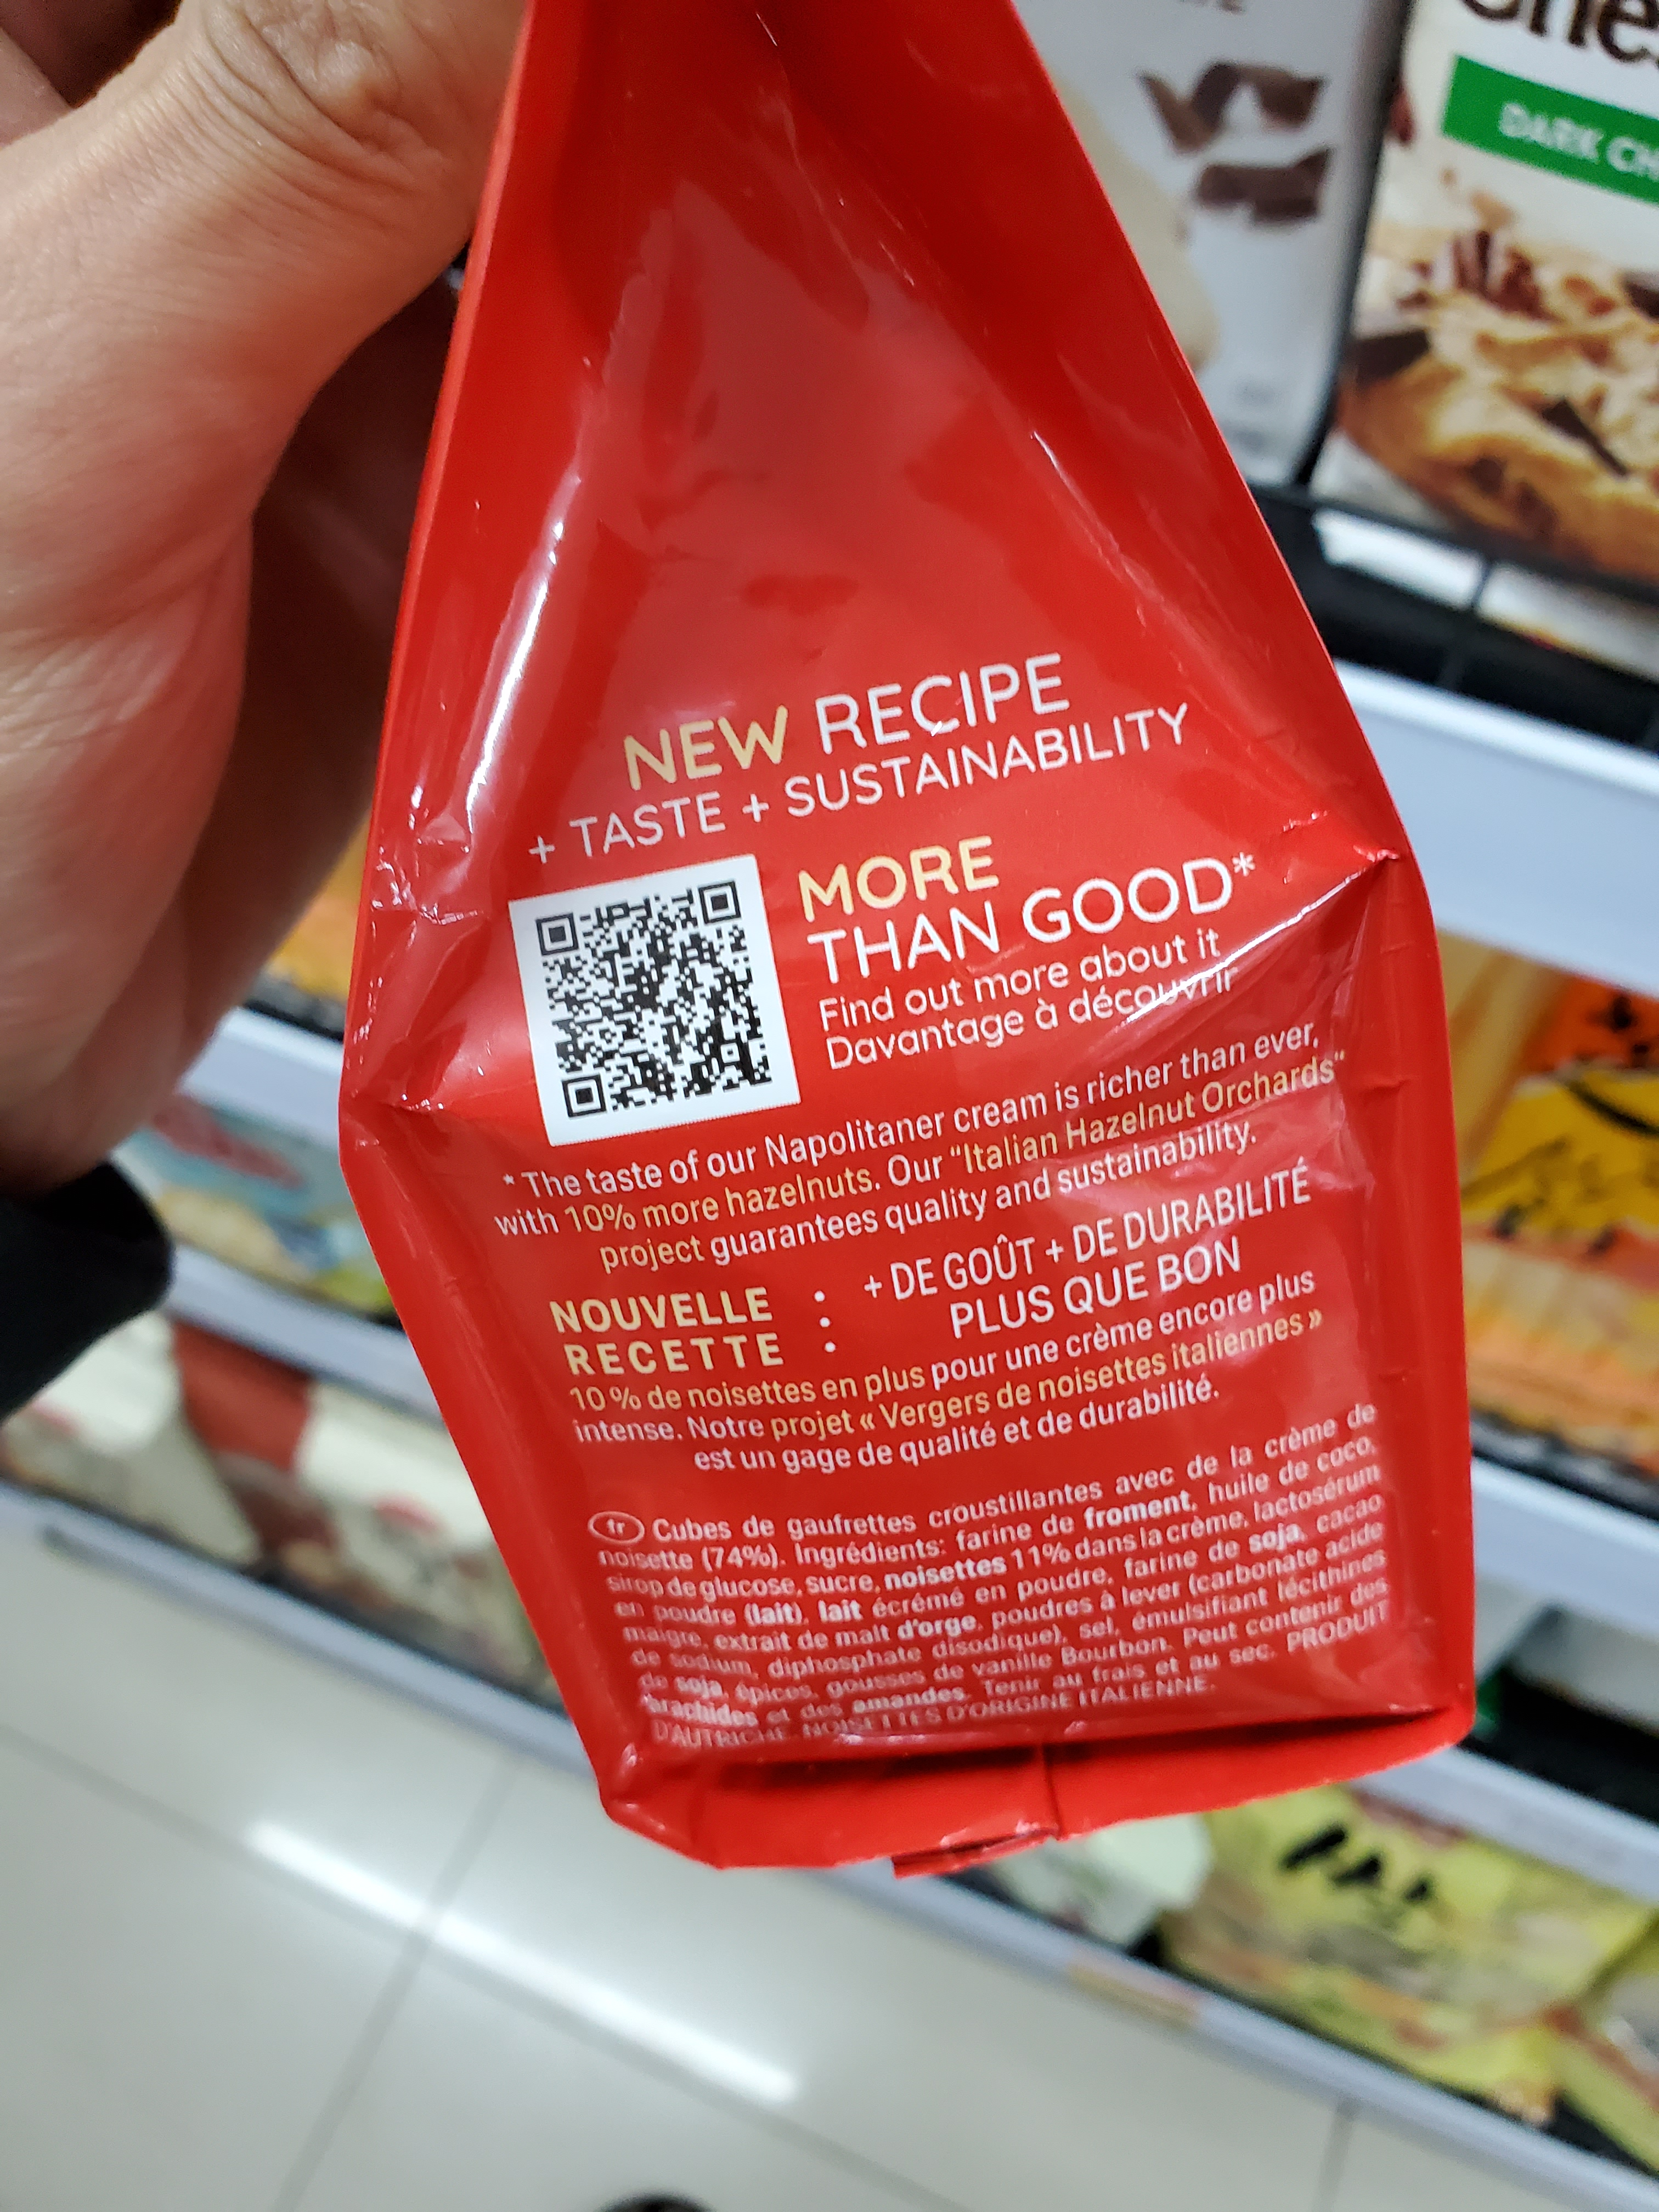qr code: (495, 867, 796, 1127)
